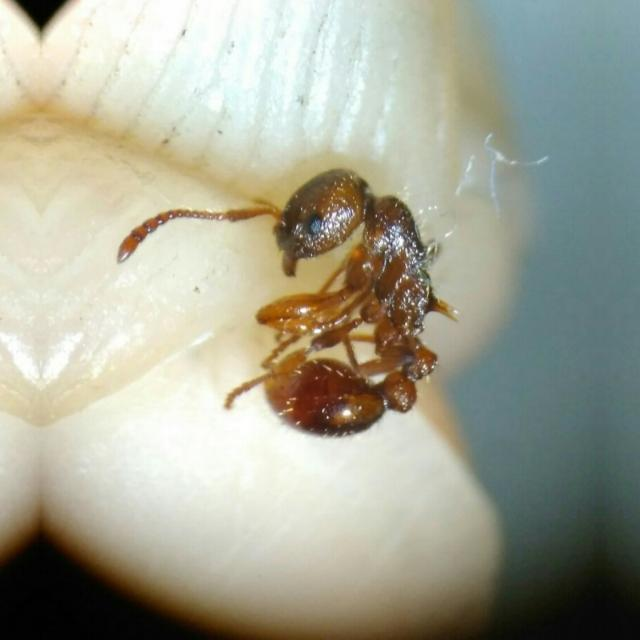Myrmica: (205, 119, 433, 448)
